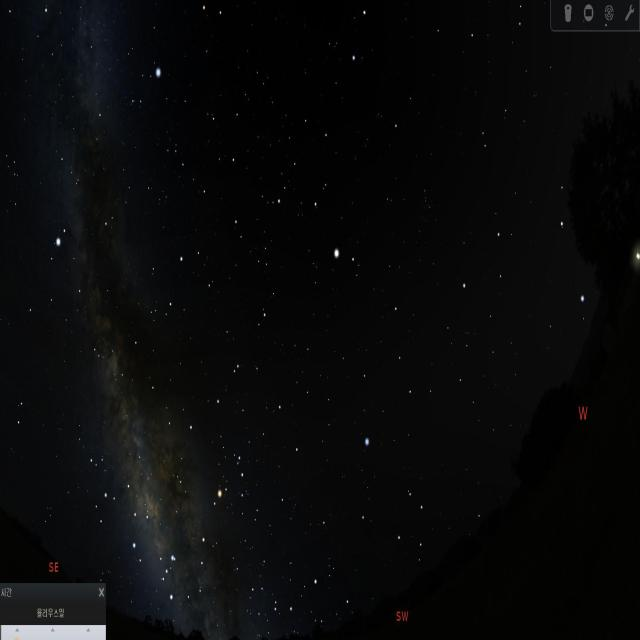aquila: (37, 213, 119, 370)
bootes: (278, 112, 367, 292)
leo: (450, 190, 598, 336)
lyra: (129, 52, 168, 123)
sagittarius: (86, 449, 150, 574)
scorpius: (162, 436, 254, 610)
